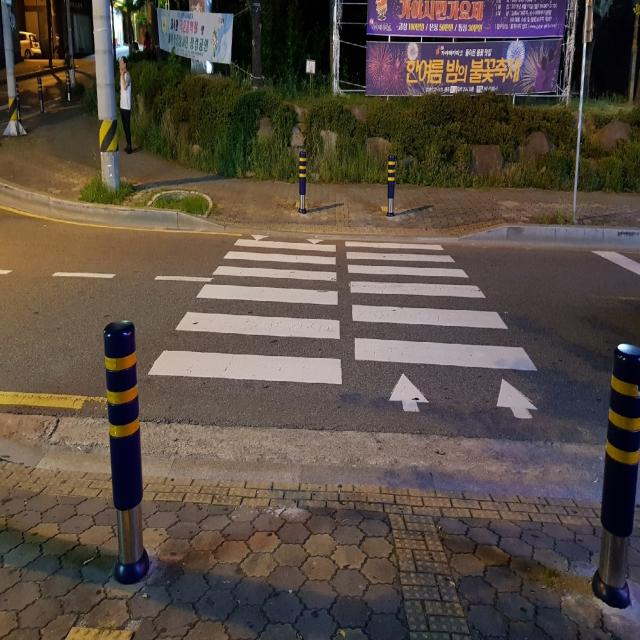횡단보도: (148, 231, 538, 419)
